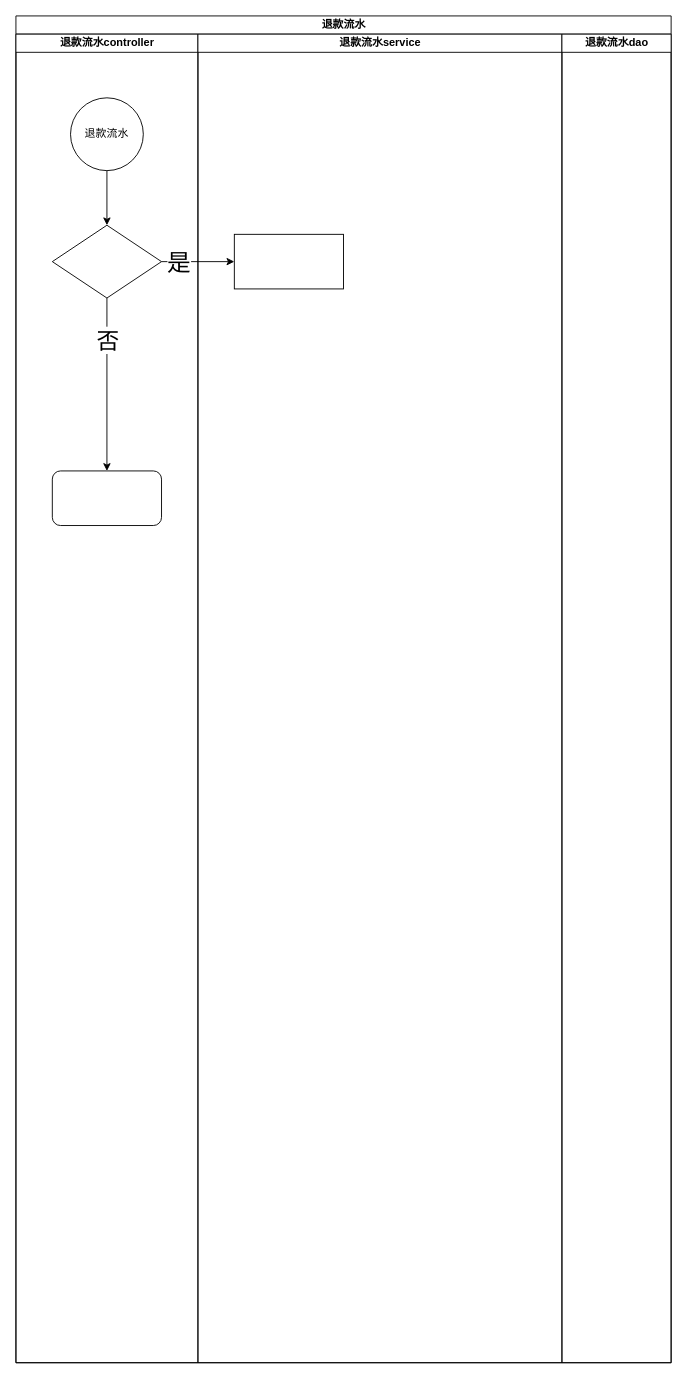
This 687x1379 diagram has some shape labels left out. The shapes that lost their labels are listed below. From the top down, each one's centre as x and y in pixels, then its label:
At point 106,261: "校验参数".
At point 288,261: "参数构建".
At point 106,498: "结束".
